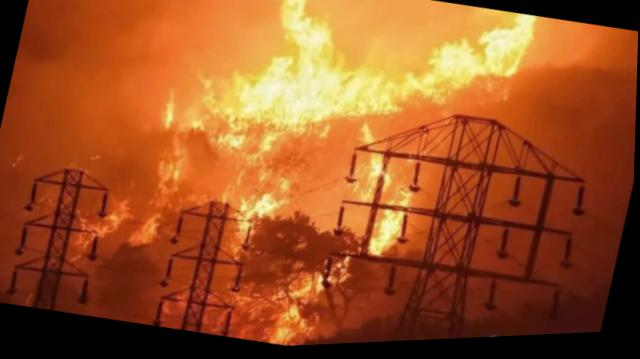fire: (77, 0, 544, 354)
